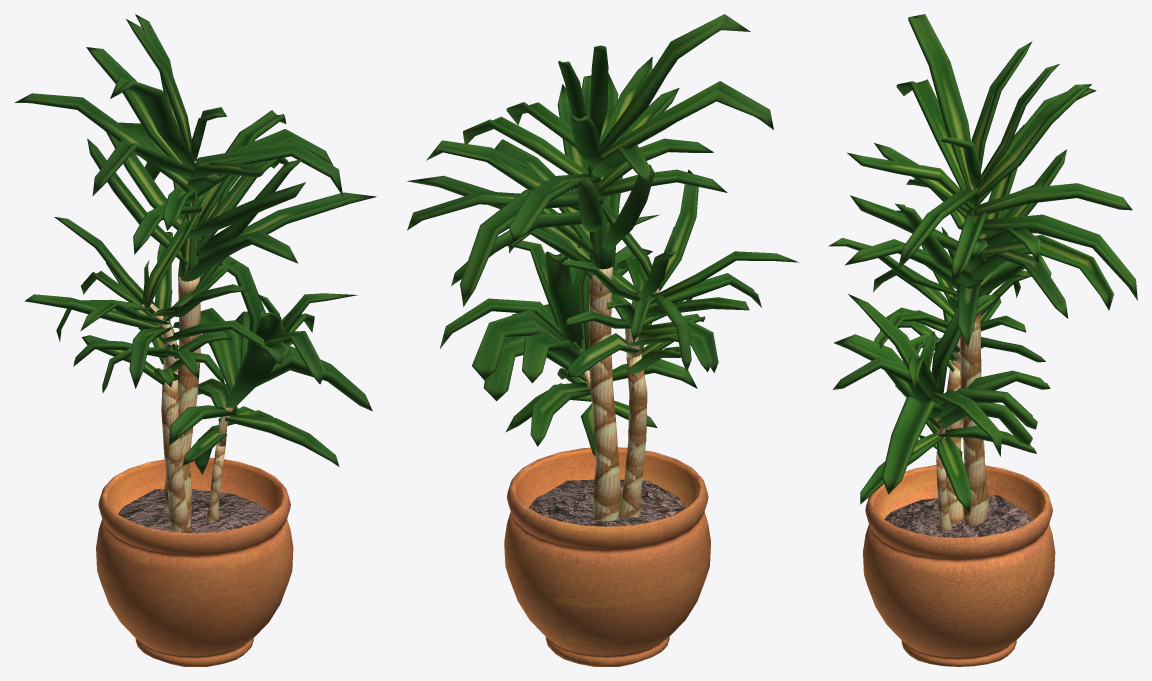
Rendered from pot_plant_dracena.glb.
3 views of the same model, side by side, from view 1: azimuth 30°, elevation 25°; view 2: azimuth 150°, elevation 25°; view 3: azimuth 270°, elevation 25° (orthographic). The views are drawn at different scales.
Visible parts, largest first — view 1: Object_5, Object_3, Object_4, Object_2; view 2: Object_5, Object_3, Object_4, Object_2; view 3: Object_5, Object_3, Object_4, Object_2.
Part boxes in pixels (x1,y1,x2,y2): Object_5: [14, 14, 376, 474]; Object_3: [96, 457, 293, 666]; Object_4: [141, 275, 233, 532]; Object_2: [118, 489, 270, 533]; Object_5: [406, 14, 799, 455]; Object_3: [504, 447, 710, 666]; Object_4: [583, 267, 659, 520]; Object_2: [529, 479, 686, 526]; Object_5: [828, 14, 1137, 512]; Object_3: [863, 464, 1055, 666]; Object_4: [935, 309, 988, 530]; Object_2: [884, 495, 1033, 537].
Size of the model in its own units: 6.43 by 10.94 by 5.2.
Materials: 4 (4 with a texture image).
